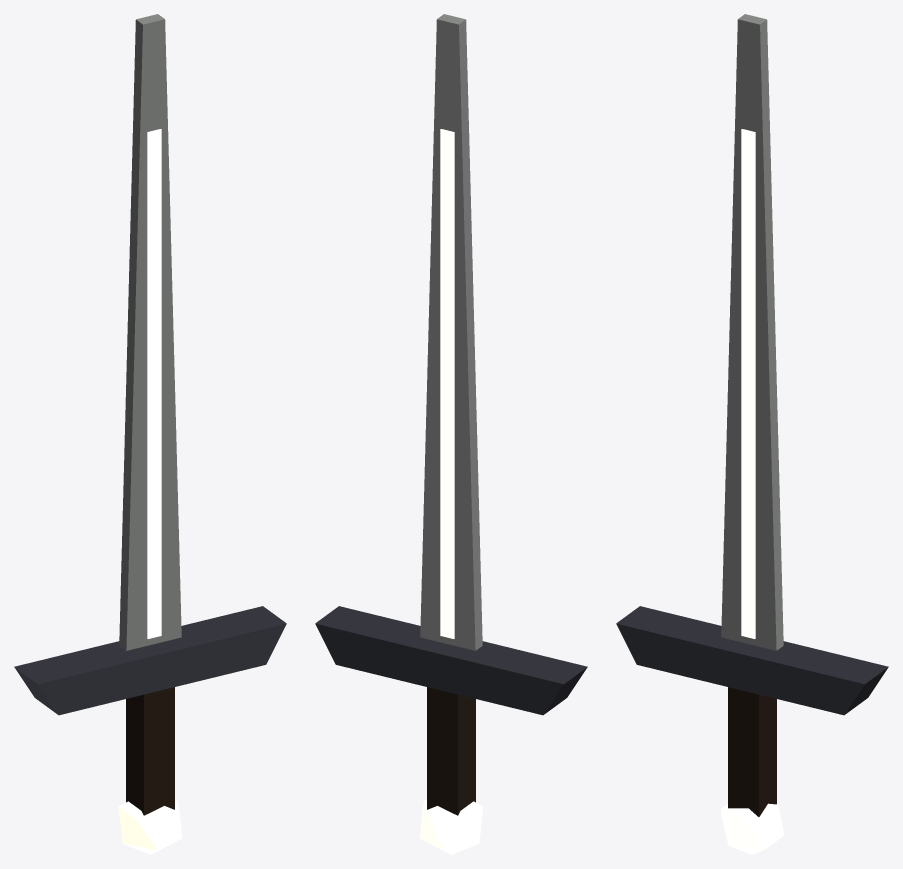
File: witchbane.fbx
3 views of the same model, side by side, from view 1: azimuth 30°, elevation 25°; view 2: azimuth 150°, elevation 25°; view 3: azimuth 330°, elevation 25° (orthographic).
Parts seen in each view (by area): view 1: Witchbane; view 2: Witchbane; view 3: Witchbane.
Boxes of the visible parts, x1,y1,x2,y2 form: Witchbane: (14, 14, 286, 854); Witchbane: (315, 14, 587, 854); Witchbane: (616, 14, 888, 854).
Bounding box in the file's own units: 0.36 × 1.16 × 0.0766.
